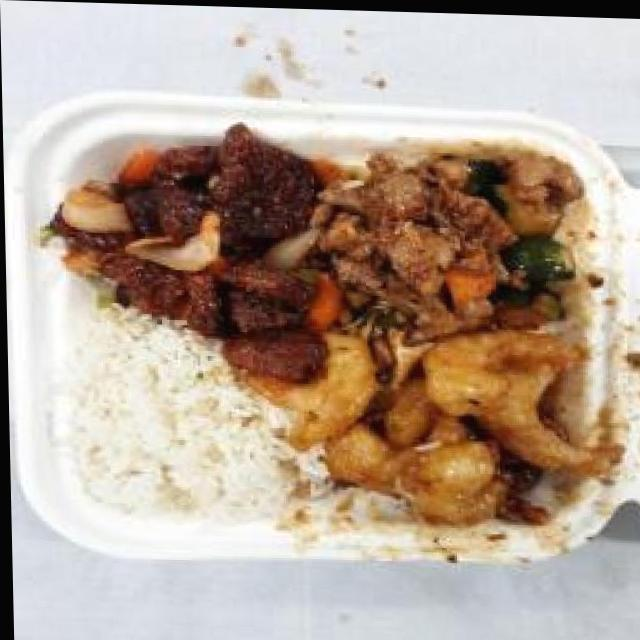Beijing Beef: (47, 121, 334, 326)
Honey Walnut Shrimp: (288, 312, 612, 534)
Kung Pao Chicken: (307, 135, 589, 347)
White Steamed Rice: (59, 319, 297, 525)
